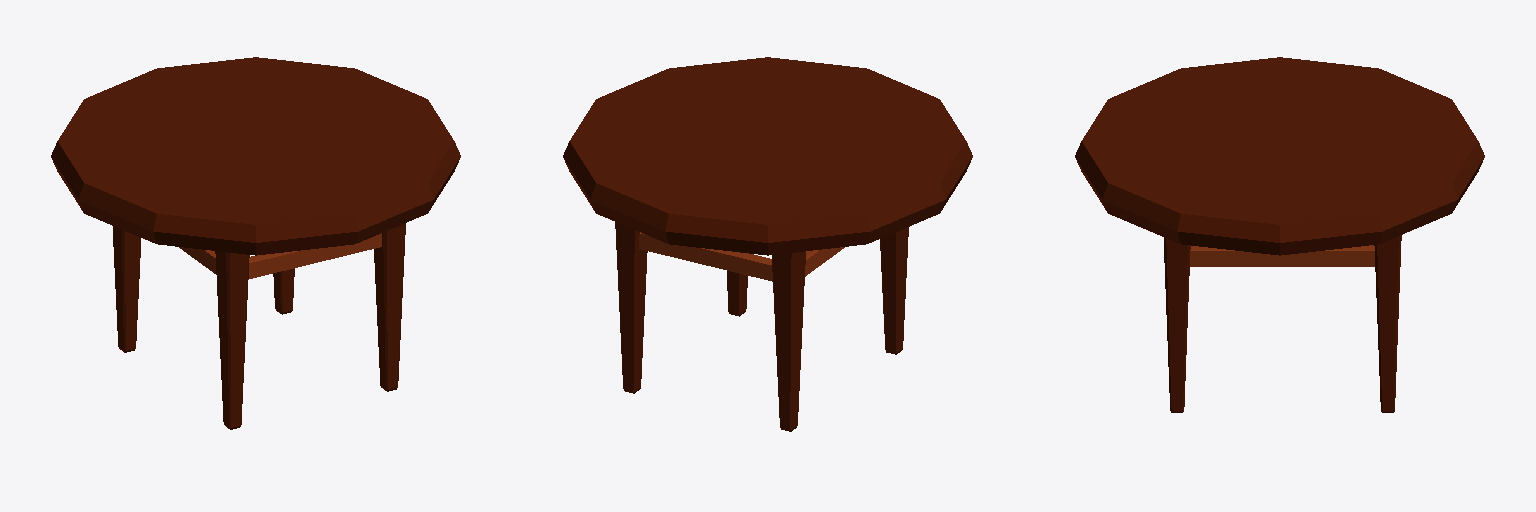
The model's file is Table1.obj.
The picture shows the model from 3 angles: view 1: azimuth 30°, elevation 25°; view 2: azimuth 150°, elevation 25°; view 3: azimuth 270°, elevation 25°; orthographic projection.
Parts seen in each view (by area): view 1: Rounded_table_B_Cylinder.010; view 2: Rounded_table_B_Cylinder.010; view 3: Rounded_table_B_Cylinder.010.
Part boxes in pixels (left/top/right/bottom): Rounded_table_B_Cylinder.010: left=51, top=57, right=460, bottom=429; Rounded_table_B_Cylinder.010: left=563, top=57, right=972, bottom=431; Rounded_table_B_Cylinder.010: left=1075, top=57, right=1484, bottom=412.
Bounding box in the file's own units: 5.74 × 3.55 × 5.74.